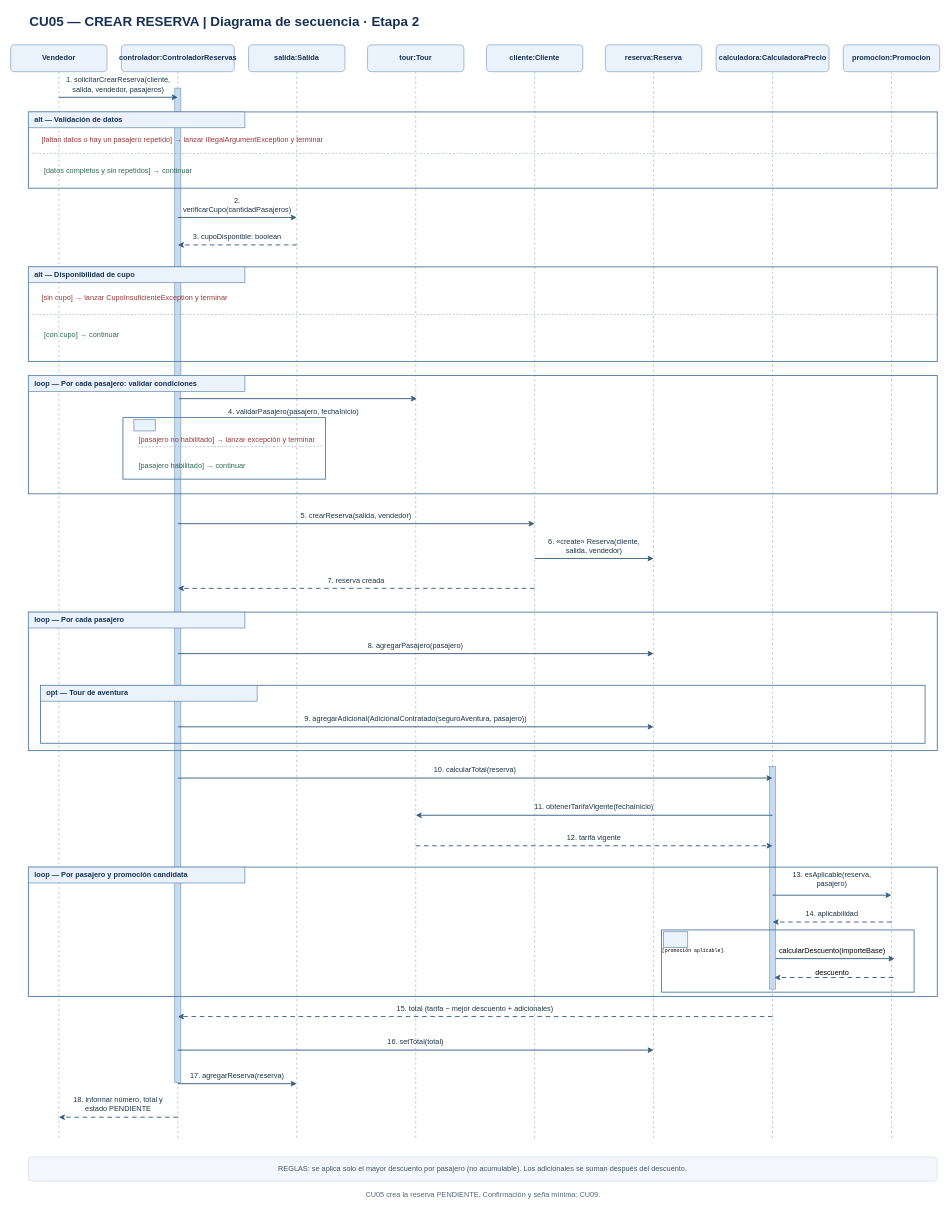
Some shapes in this 950 by 1211 pixel diagram are drawn without their labels. Here are the shapes that lost their labels. From the top down, the centre of each, then its label:
(144,425): alt
(675,939): Opt
